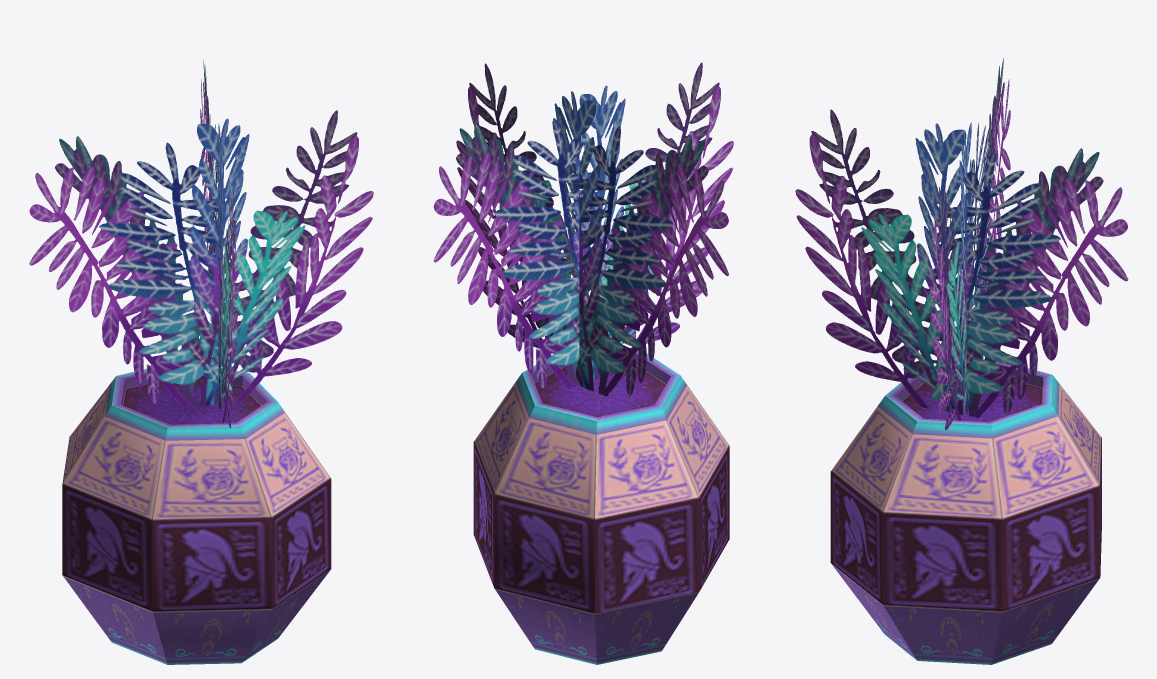
The model's file is Structure_Retro_Pot_01_Art.fbx.
3 views of the same model, side by side, from view 1: azimuth 30°, elevation 25°; view 2: azimuth 150°, elevation 25°; view 3: azimuth 270°, elevation 25° (orthographic). The views are drawn at different scales.
Parts seen in each view (by area): view 1: Structure_Vapor_Pot_01_Art, Structure_Vapor_Pot_01_Art1; view 2: Structure_Vapor_Pot_01_Art, Structure_Vapor_Pot_01_Art1; view 3: Structure_Vapor_Pot_01_Art, Structure_Vapor_Pot_01_Art1.
Boxes of the visible parts, x1,y1,x2,y2 form: Structure_Vapor_Pot_01_Art: (29, 61, 373, 664); Structure_Vapor_Pot_01_Art1: (29, 60, 373, 427); Structure_Vapor_Pot_01_Art: (433, 62, 733, 664); Structure_Vapor_Pot_01_Art1: (435, 63, 732, 396); Structure_Vapor_Pot_01_Art: (795, 58, 1128, 664); Structure_Vapor_Pot_01_Art1: (795, 58, 1126, 428).
Bounding box in the file's own units: 159 × 243 × 148.
